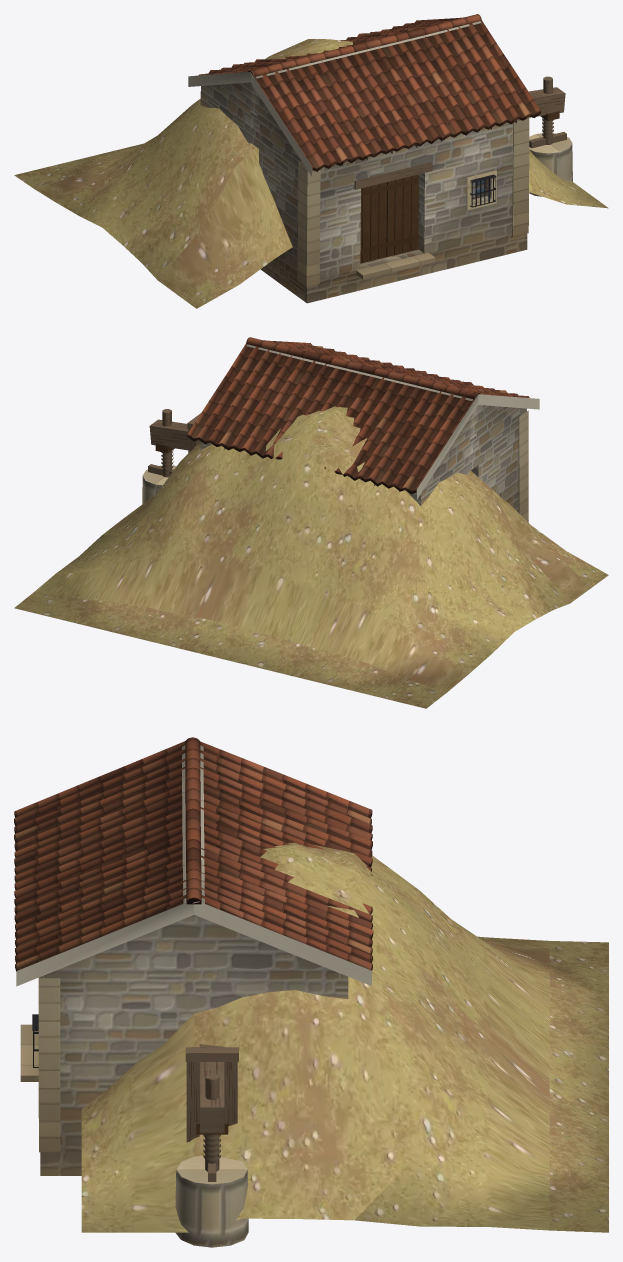
File: bodegas.glb
3 renders of one model, top to bottom at view 1: azimuth 30°, elevation 25°; view 2: azimuth 150°, elevation 25°; view 3: azimuth 270°, elevation 25°, orthographic. The views are drawn at different scales.
Visible parts, largest first — view 1: lagar, bodega_door; view 2: bodega_door, lagar; view 3: bodega_door, lagar.
Part boxes in pixels (<box>): lagar: <box>188,14,572,303</box>; bodega_door: <box>14,39,608,308</box>; bodega_door: <box>14,406,608,708</box>; lagar: <box>142,337,539,522</box>; bodega_door: <box>81,842,608,1232</box>; lagar: <box>14,737,373,1247</box>.
Size of the model in its own units: 11.77 by 5.24 by 10.05.
Materials: 5 (5 with a texture image).
